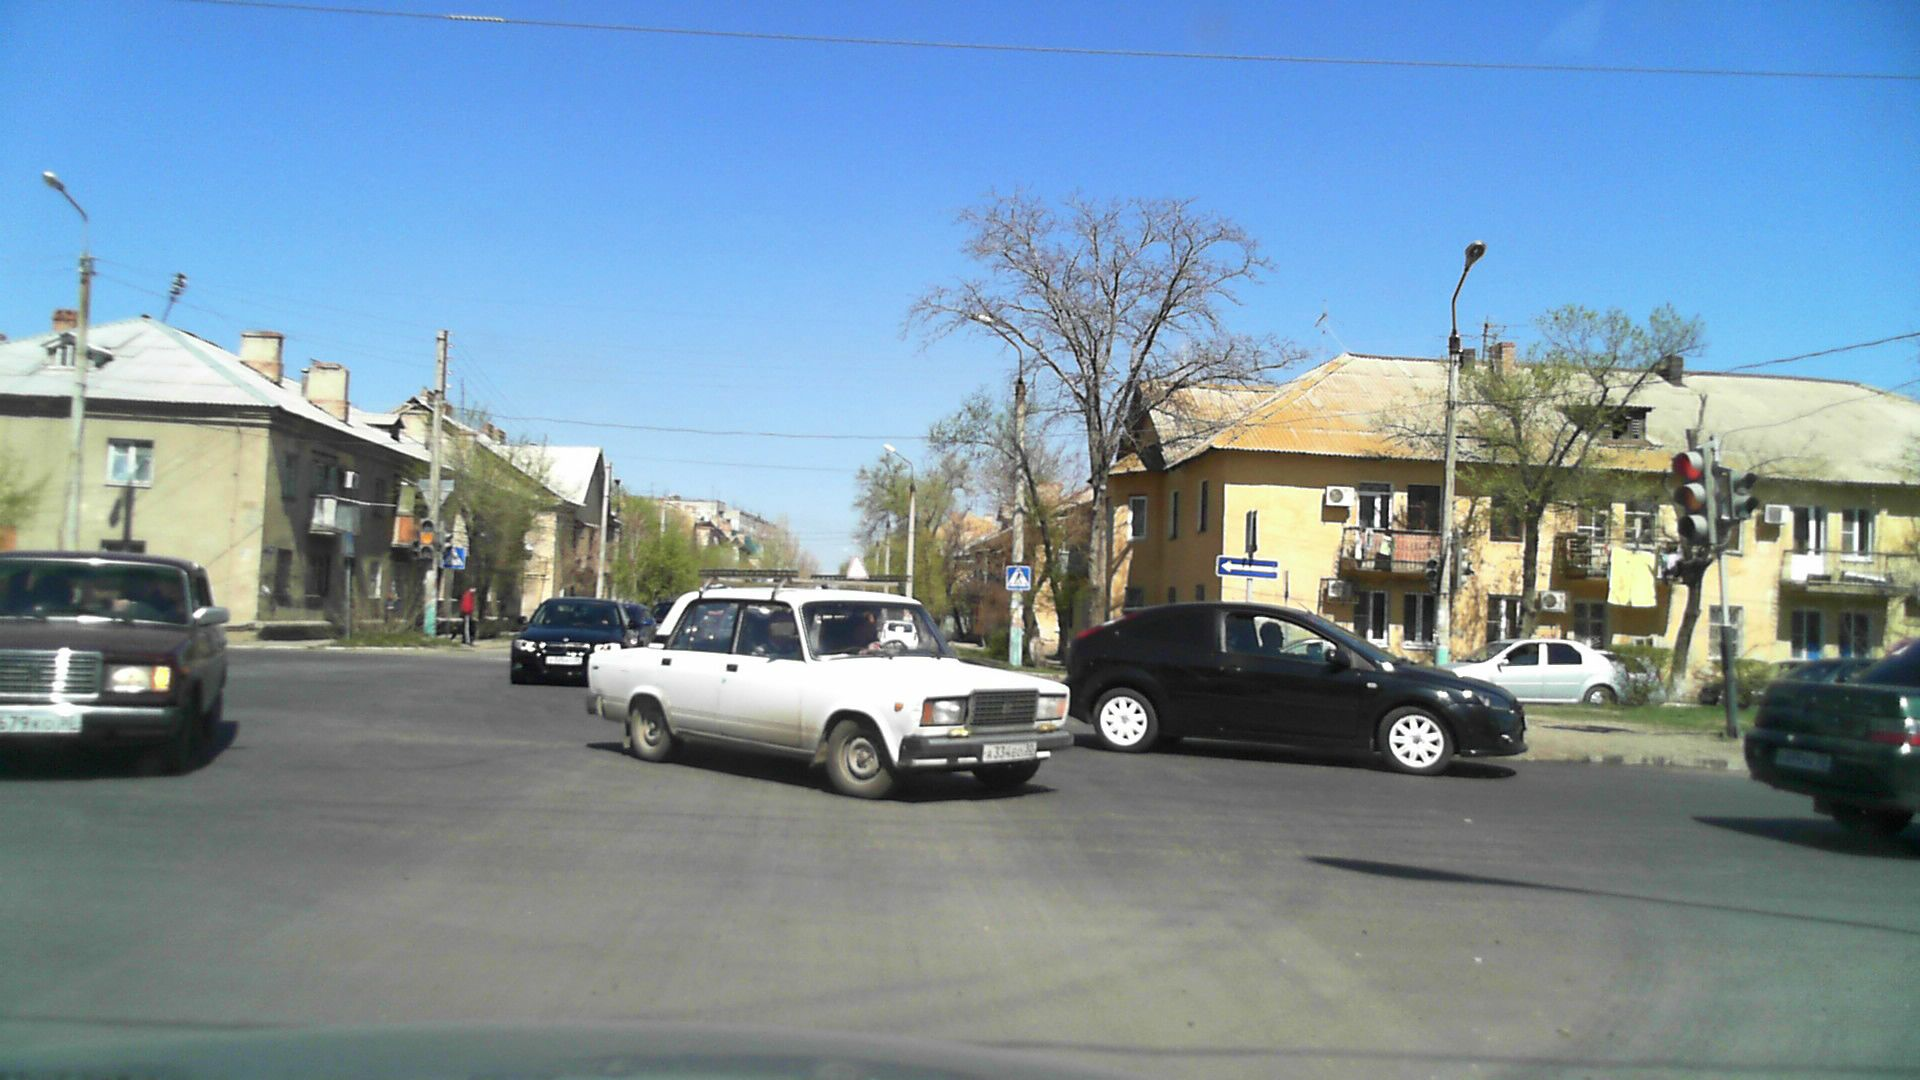One-Way Traffic: (1217, 558, 1279, 578)
